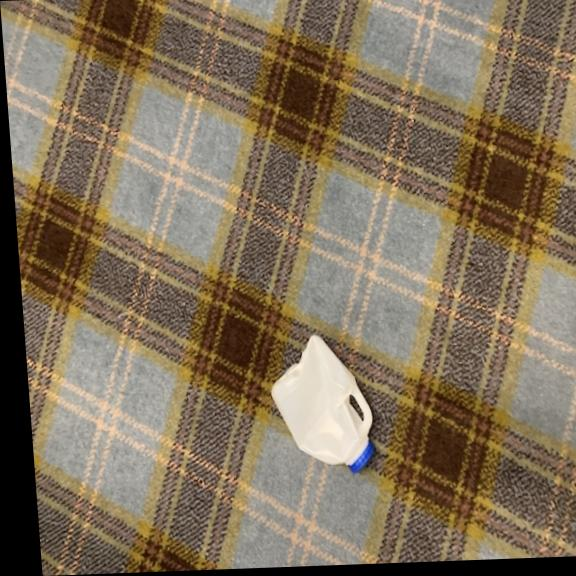Plastik: (262, 324, 388, 479)
